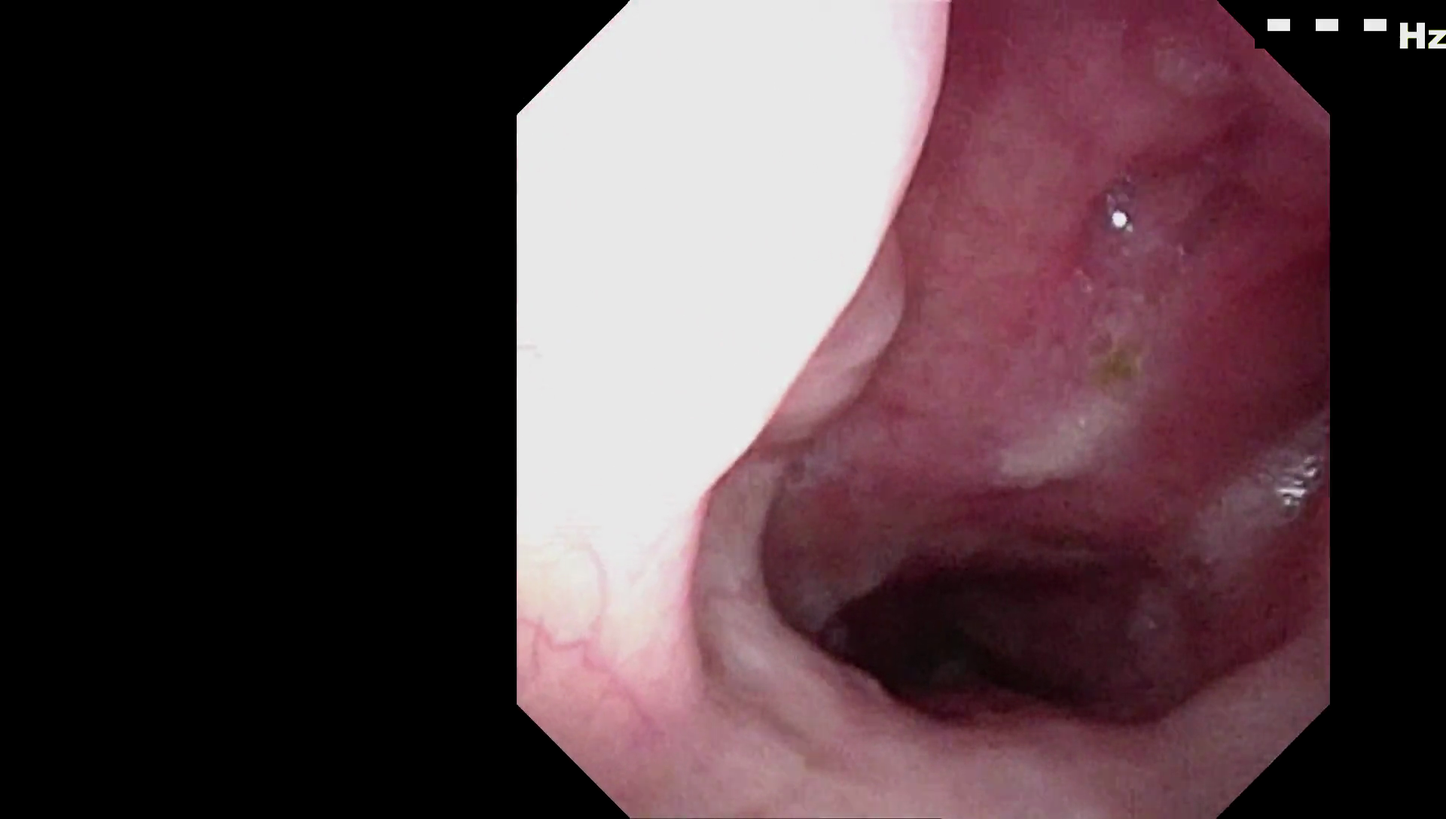close_wall: (572, 78, 968, 531)
next: (809, 553, 1093, 739)
